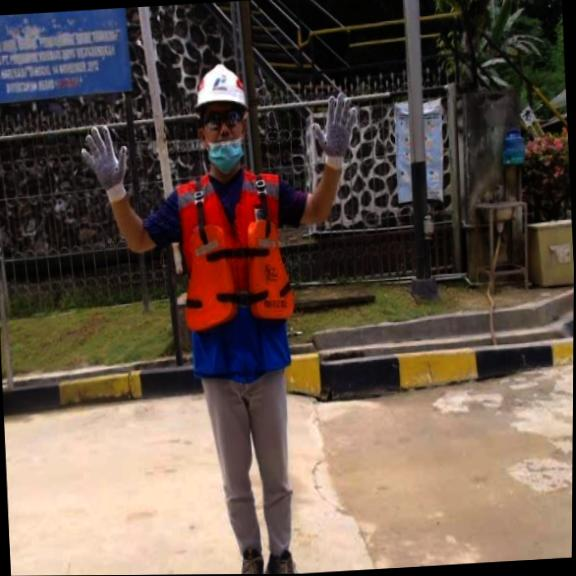safety_vest: (179, 216, 297, 334)
